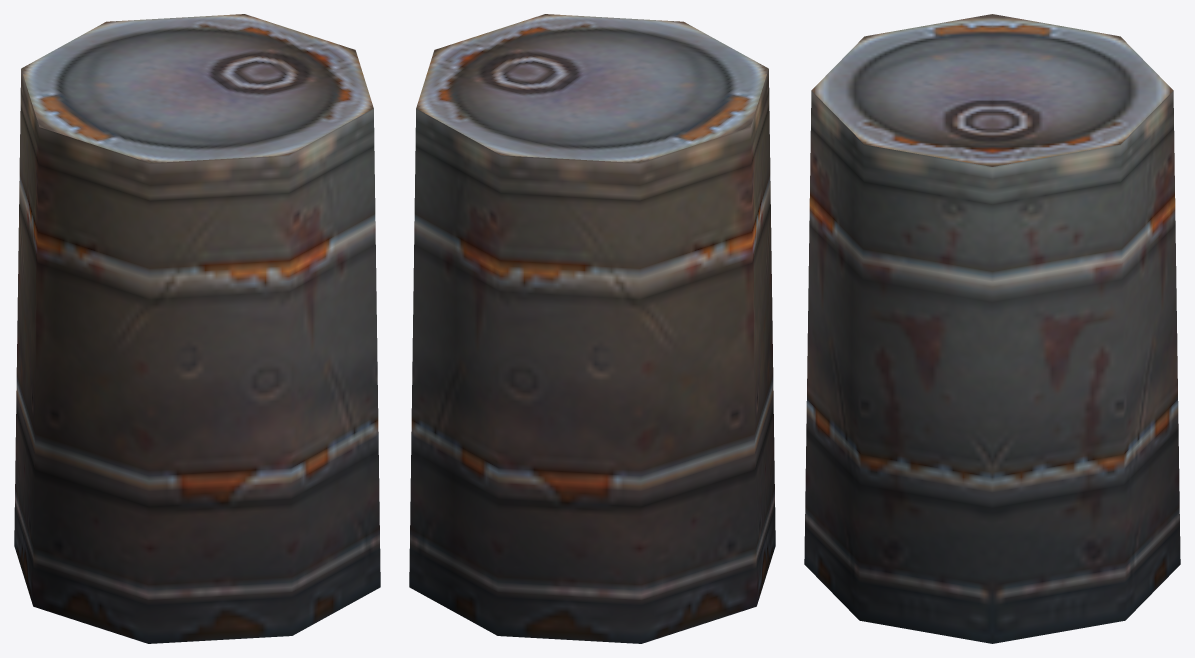
The model's file is obj_youtong.FBX.
The picture shows the model from 3 angles, left to right: view 1: azimuth 30°, elevation 25°; view 2: azimuth 150°, elevation 25°; view 3: azimuth 270°, elevation 25°; orthographic projection.
Visible parts, largest first — view 1: obj_youtong; view 2: obj_youtong; view 3: obj_youtong.
Part boxes in pixels (x1=…): obj_youtong: x1=14, y1=14, x2=380, y2=643; obj_youtong: x1=409, y1=14, x2=775, y2=643; obj_youtong: x1=804, y1=14, x2=1180, y2=643.
Bounding box in the file's own units: 41.49 × 41.49 × 57.68.
